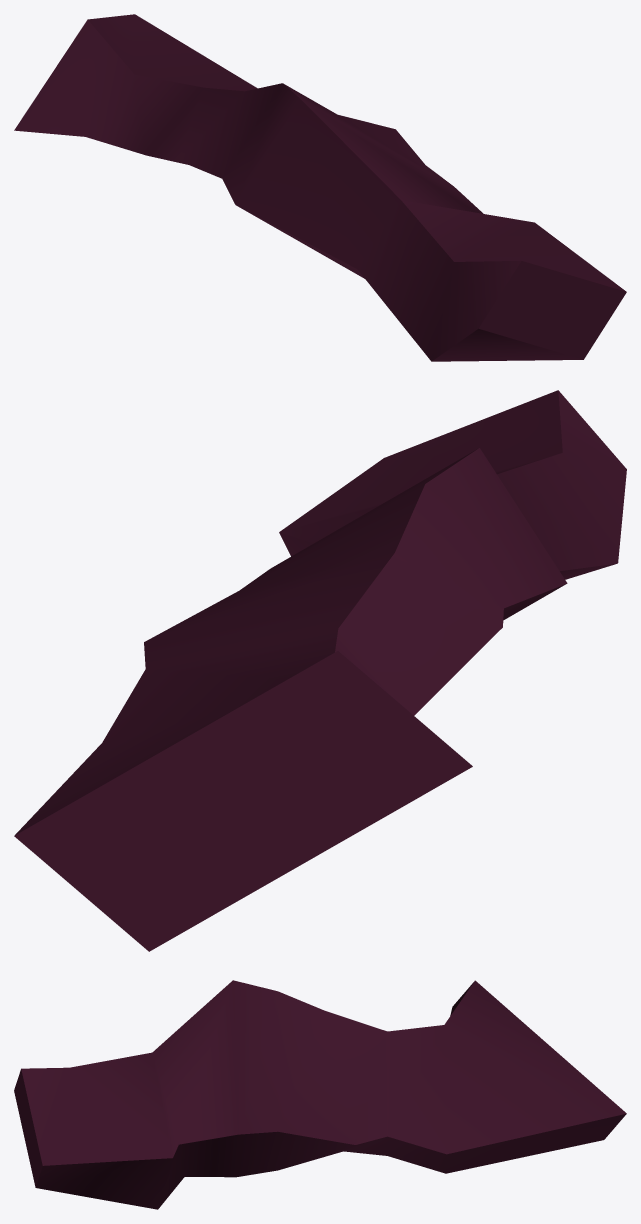
File: Ecorce_Terrestre.fbx
3 views of the same model, one above another, from view 1: azimuth 30°, elevation 25°; view 2: azimuth 150°, elevation 25°; view 3: azimuth 270°, elevation 25° (orthographic). The views are drawn at different scales.
Visible parts, largest first — view 1: Ecorce_Terrestre; view 2: Ecorce_Terrestre; view 3: Ecorce_Terrestre.
Part boxes in pixels (x1,y1,x2,y2): Ecorce_Terrestre: [14, 14, 626, 361]; Ecorce_Terrestre: [14, 390, 626, 951]; Ecorce_Terrestre: [14, 980, 626, 1209].
Bounding box in the file's own units: 906 × 574 × 1875.
